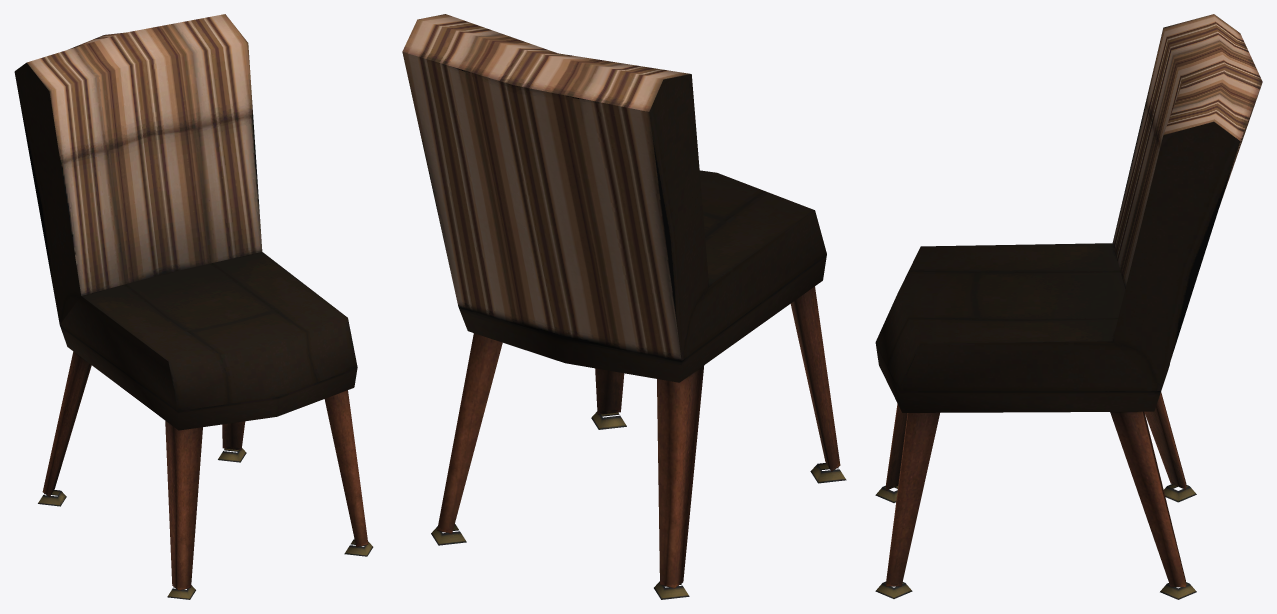
Rendered from dub_lounge_chair_03_lod3.glb.
3 renders of one model, left to right at view 1: azimuth 30°, elevation 25°; view 2: azimuth 150°, elevation 25°; view 3: azimuth 270°, elevation 25°, orthographic. The views are drawn at different scales.
Parts seen in each view (by area): view 1: surf0; view 2: surf0; view 3: surf0.
Part boxes in pixels (x1,y1,x2,y2): surf0: (14,14,373,599); surf0: (402,14,846,599); surf0: (875,14,1262,599).
Size of the model in its own units: 23.38 by 45.86 by 33.79.
